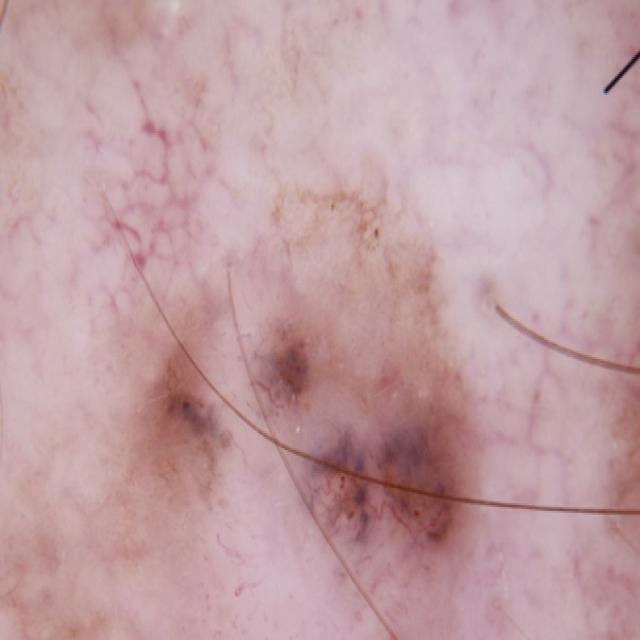Carcinoma: (88, 204, 558, 624)
